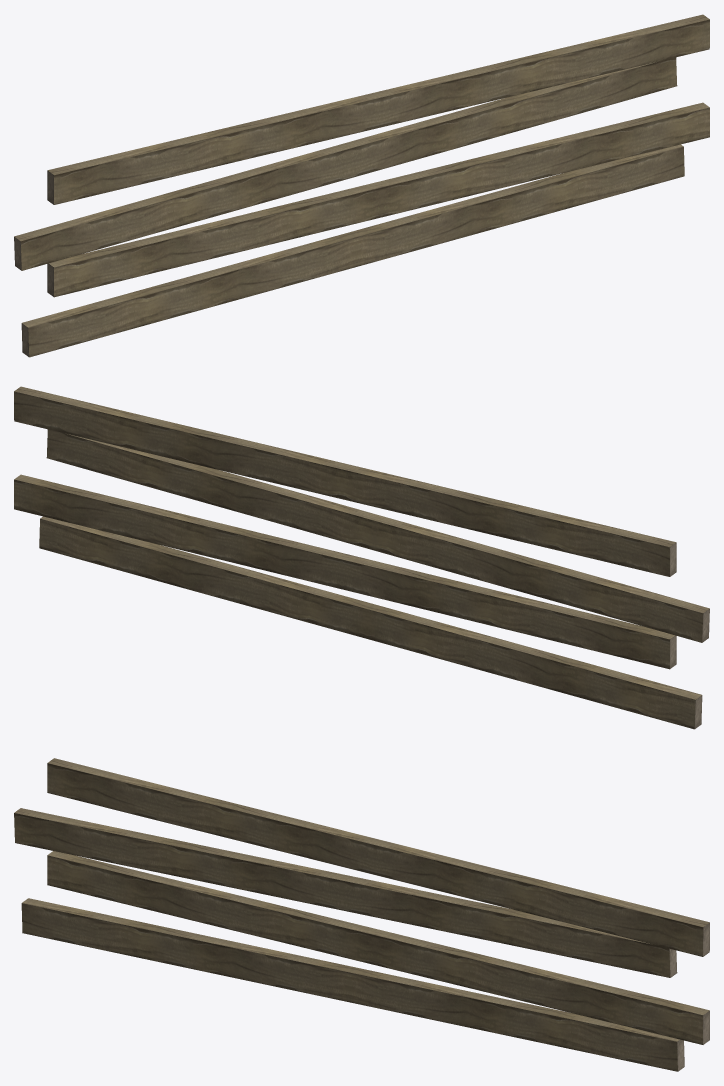
The model's file is Planks_Path_B.fbx.
3 views of the same model, one above another, from view 1: azimuth 30°, elevation 25°; view 2: azimuth 150°, elevation 25°; view 3: azimuth 330°, elevation 25° (orthographic).
Parts seen in each view (by area): view 1: Planks_Path_B; view 2: Planks_Path_B; view 3: Planks_Path_B.
Part boxes in pixels (left/top/right/bottom): Planks_Path_B: left=14, top=14, right=709, bottom=357; Planks_Path_B: left=14, top=386, right=709, bottom=729; Planks_Path_B: left=14, top=758, right=709, bottom=1071.
Bounding box in the file's own units: 6.86 × 1.68 × 0.1167.
